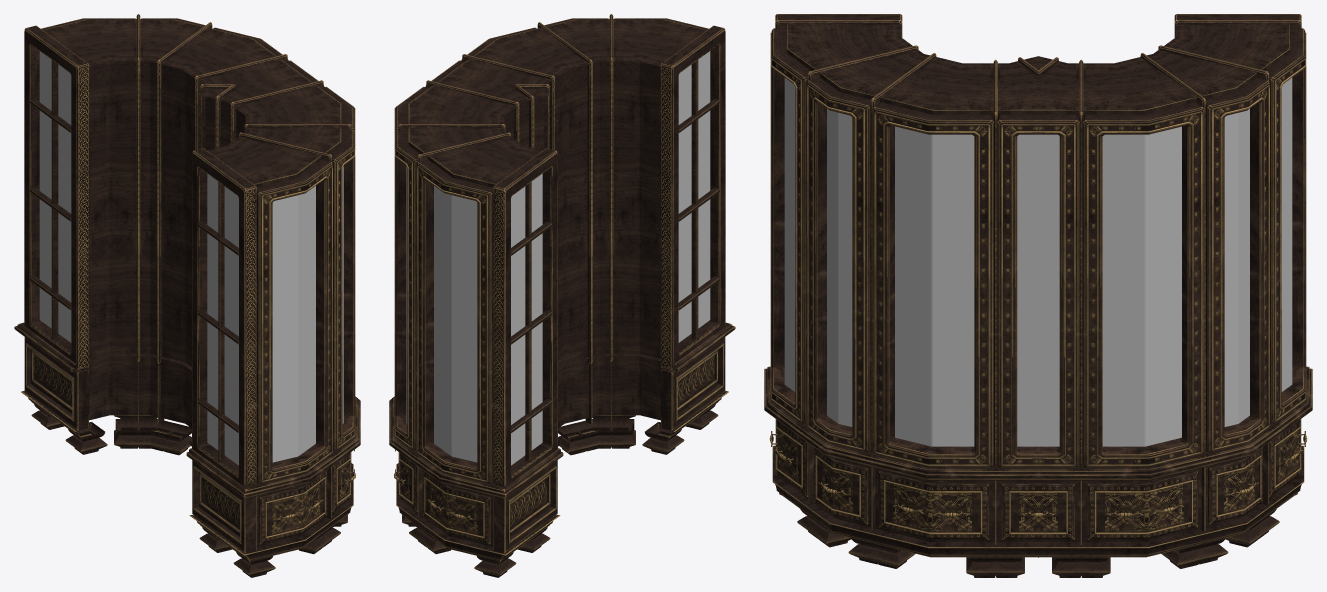
The model's file is SM_Vitrin3_OutwardCurve90D.fbx.
3 views of the same model, side by side, from view 1: azimuth 30°, elevation 25°; view 2: azimuth 150°, elevation 25°; view 3: azimuth 270°, elevation 25° (orthographic). The views are drawn at different scales.
Parts seen in each view (by area): view 1: SM_Vitrin3_OutwardCurve90D_LOD0; view 2: SM_Vitrin3_OutwardCurve90D_LOD0; view 3: SM_Vitrin3_OutwardCurve90D_LOD0.
Part boxes in pixels (bbox=[...]): SM_Vitrin3_OutwardCurve90D_LOD0: bbox=[14, 14, 360, 577]; SM_Vitrin3_OutwardCurve90D_LOD0: bbox=[389, 14, 735, 577]; SM_Vitrin3_OutwardCurve90D_LOD0: bbox=[764, 14, 1312, 577].
Size of the model in its own units: 114 by 246 by 233.
2 materials, 1 textured.
